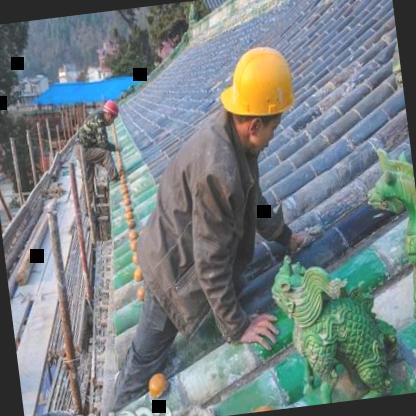helmet: (211, 35, 306, 158), (100, 95, 126, 129)
